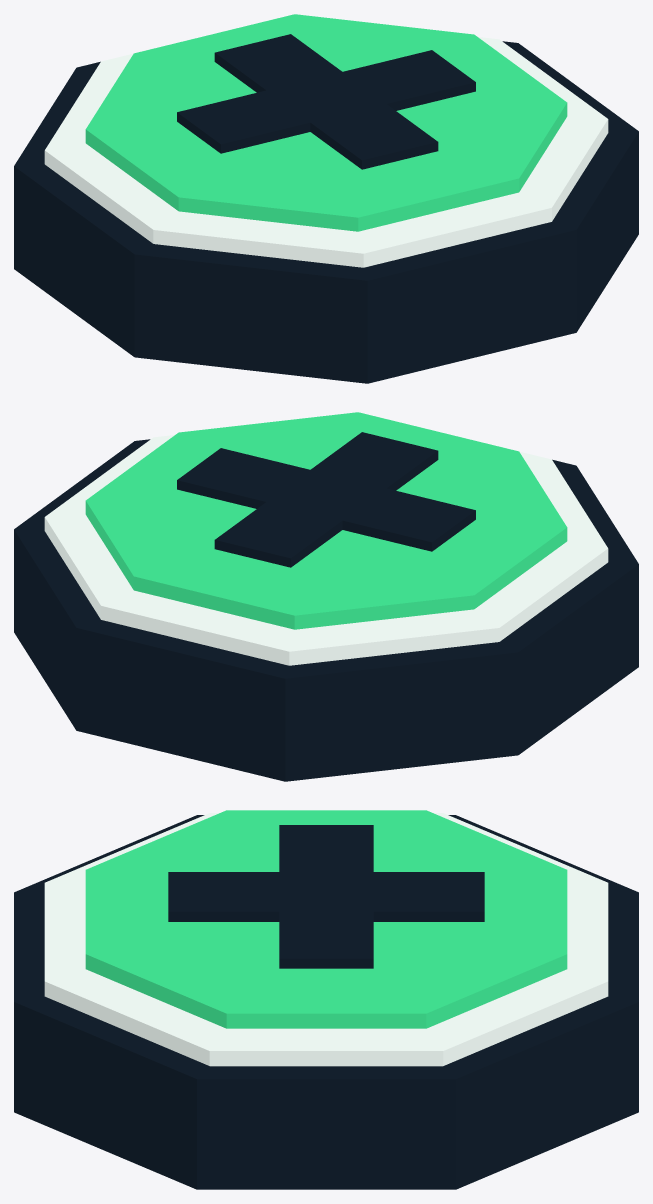
Rendered from pickup-health.glb.
The picture shows the model from 3 angles, top to bottom: view 1: azimuth 30°, elevation 25°; view 2: azimuth 150°, elevation 25°; view 3: azimuth 270°, elevation 25°; orthographic projection. The views are drawn at different scales.
Visible parts, largest first — view 1: pickup-health-pickup-health-geometry; view 2: pickup-health-pickup-health-geometry; view 3: pickup-health-pickup-health-geometry.
Boxes of the visible parts, box(x1,y1,x2,y2) form: pickup-health-pickup-health-geometry: box(14, 14, 638, 383); pickup-health-pickup-health-geometry: box(14, 412, 638, 781); pickup-health-pickup-health-geometry: box(14, 810, 638, 1189).
Bounding box in the file's own units: 1.13 × 0.33 × 1.13.
